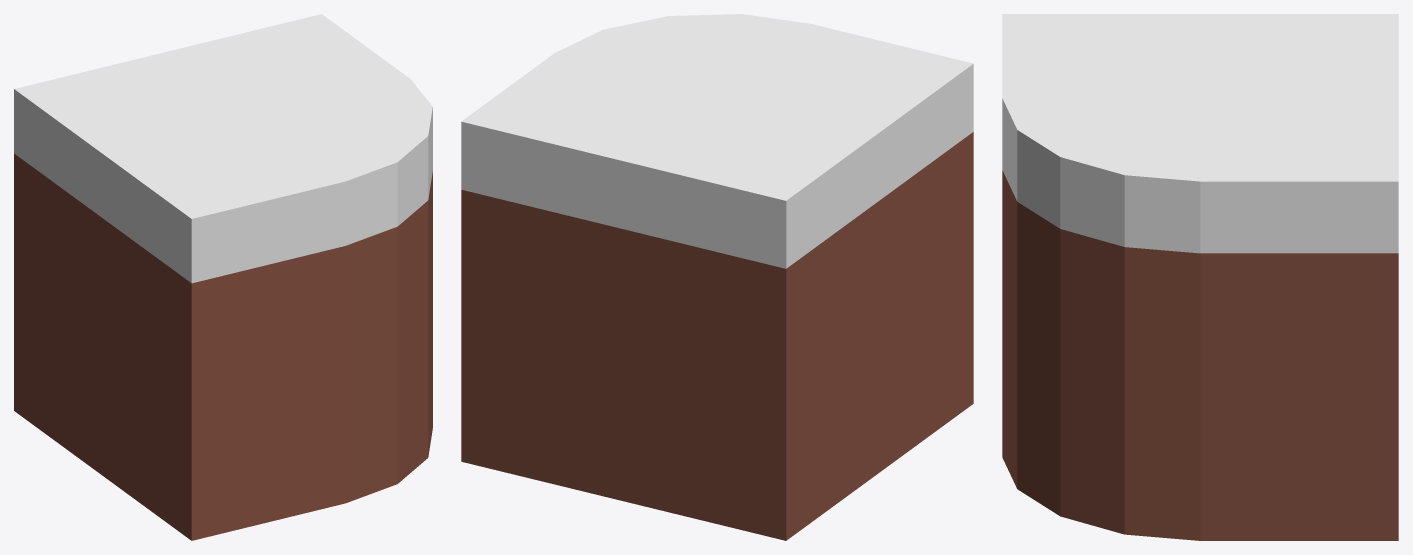
The model's file is Mesh_Ground_Corner.glb.
The picture shows the model from 3 angles, left to right: view 1: azimuth 30°, elevation 25°; view 2: azimuth 150°, elevation 25°; view 3: azimuth 270°, elevation 25°; orthographic projection. The views are drawn at different scales.
Visible parts, largest first — view 1: Mesh_Ground_Corner; view 2: Mesh_Ground_Corner; view 3: Mesh_Ground_Corner.
Boxes of the visible parts, x1=… form: Mesh_Ground_Corner: x1=14, y1=14, x2=432, y2=540; Mesh_Ground_Corner: x1=461, y1=14, x2=973, y2=540; Mesh_Ground_Corner: x1=1002, y1=14, x2=1398, y2=540.
Bounding box in the file's own units: 2 × 2 × 2.
Materials: 1 (1 with a texture image).
